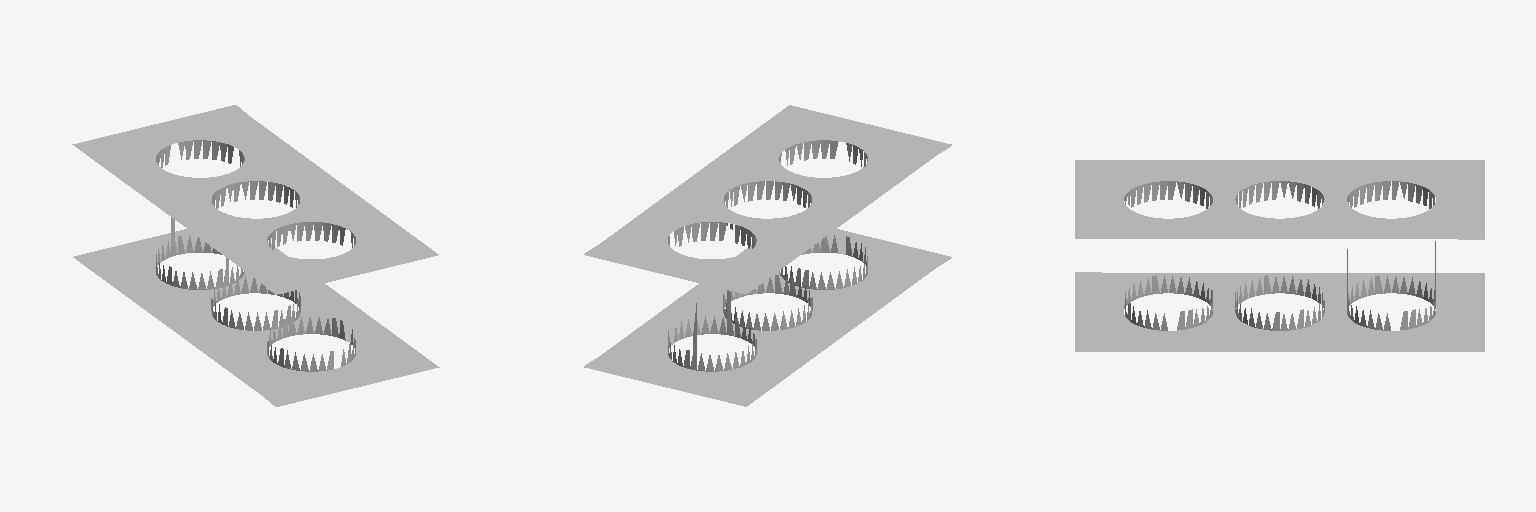
The model's file is 180712 FullBrick.obj.
3 views of the same model, side by side, from view 1: azimuth 30°, elevation 25°; view 2: azimuth 150°, elevation 25°; view 3: azimuth 270°, elevation 25° (orthographic).
Bounding box in the file's own units: 0.096 × 0.0625 × 0.2083.